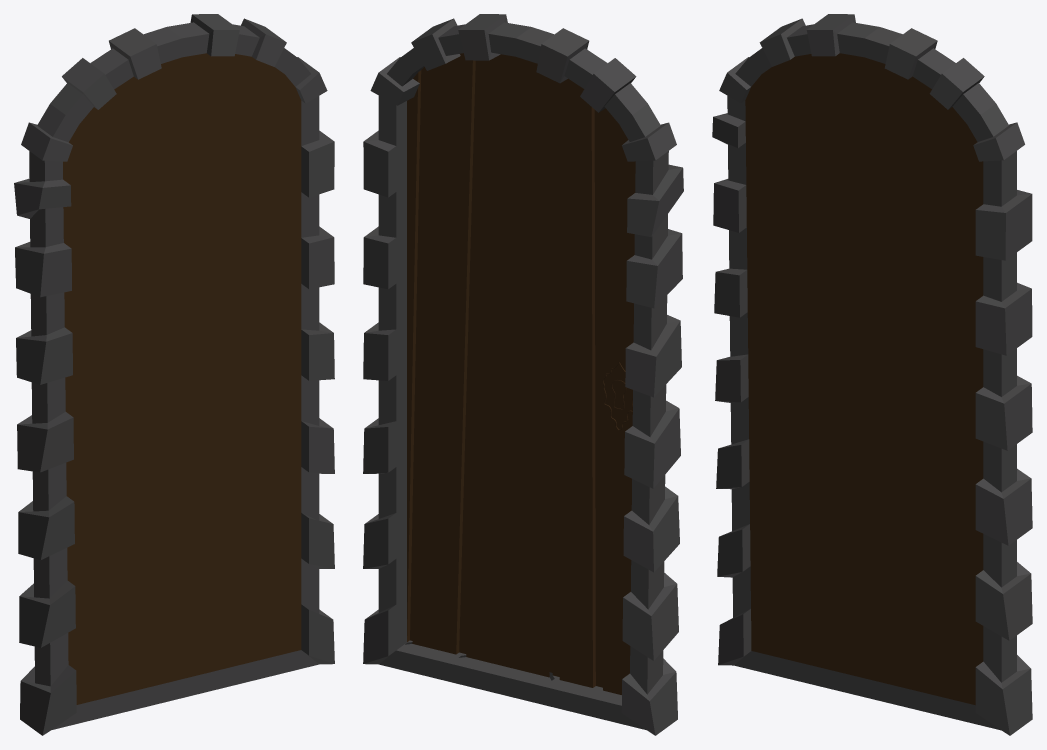
Rendered from DOOR.fbx.
3 renders of one model, left to right at view 1: azimuth 30°, elevation 25°; view 2: azimuth 150°, elevation 25°; view 3: azimuth 330°, elevation 25°, orthographic.
Visible parts, largest first — view 1: Circle.002, Circle; view 2: Circle.002, Circle; view 3: Circle.002, Circle.
Part boxes in pixels (x1,y1,x2,y2): Circle.002: (63,53,301,704); Circle: (14,14,334,735); Circle.002: (407,53,635,694); Circle: (363,14,683,735); Circle.002: (745,53,983,705); Circle: (712,14,1032,735).
Bounding box in the file's own units: 286 × 611 × 52.11.
